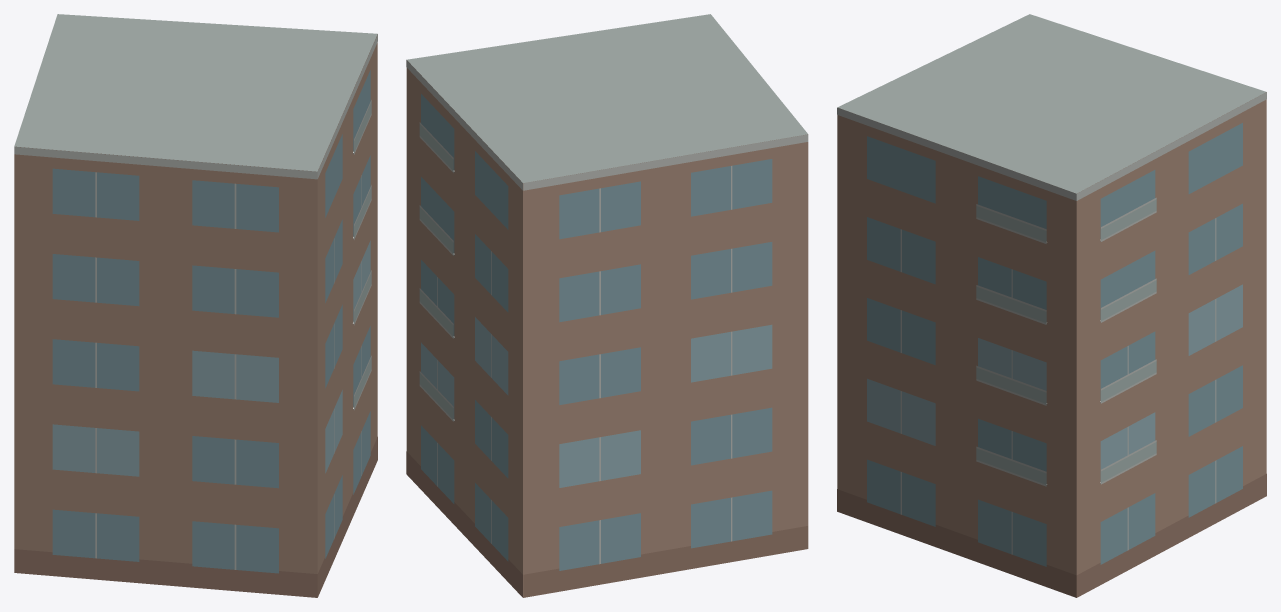
The model's file is survey-upis-32951000.glb.
The picture shows the model from 3 angles, left to right: view 1: azimuth 30°, elevation 25°; view 2: azimuth 150°, elevation 25°; view 3: azimuth 270°, elevation 25°; orthographic projection. The views are drawn at different scales.
Parts seen in each view (by area): view 1: survey-upis-32951000.tmp; view 2: survey-upis-32951000.tmp; view 3: survey-upis-32951000.tmp.
Part boxes in pixels (x1,y1,x2,y2): survey-upis-32951000.tmp: (14,14,377,597); survey-upis-32951000.tmp: (406,14,808,597); survey-upis-32951000.tmp: (837,14,1266,597).
Bounding box in the file's own units: 12.74 × 13.35 × 12.86.
